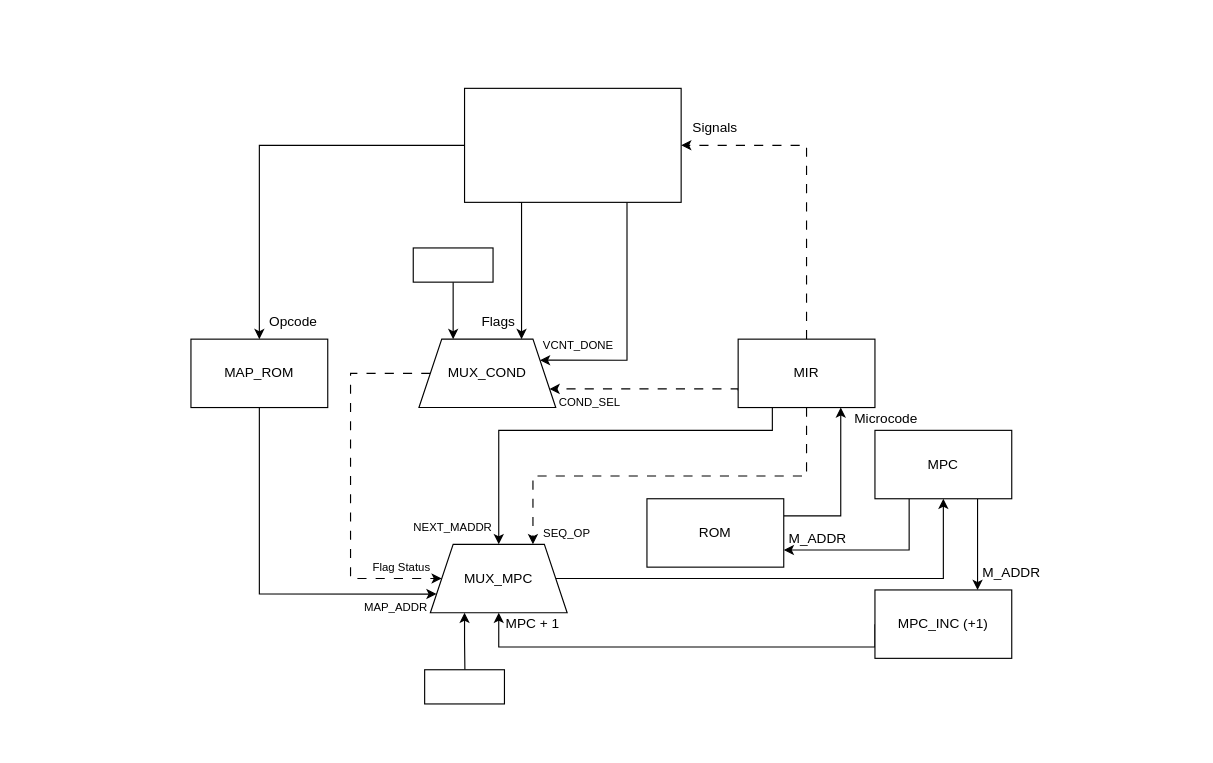
This 1213x763 diagram has some shape labels left out. The shapes that lost their labels are listed below. From the top down, each one's centre as x and y in pixels, then its label:
pixel 572 144: DataPath
pixel 452 264: UNCOND
pixel 464 686: FETCH0
